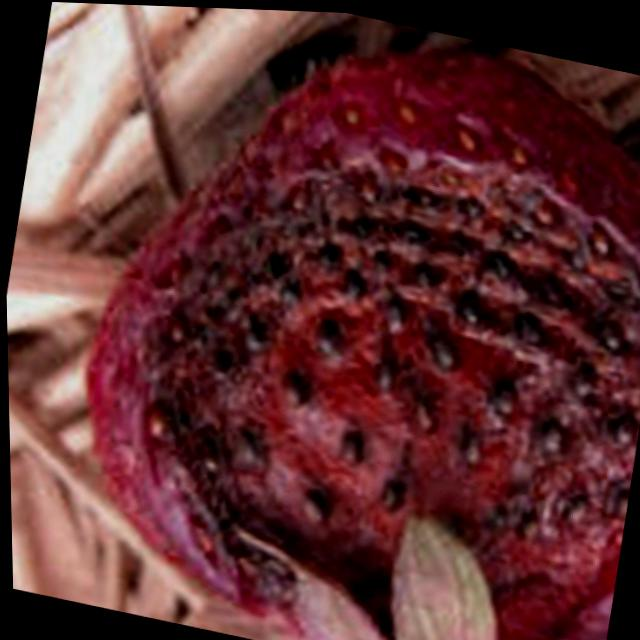Anthracnose Fruit Rot: (123, 139, 640, 640)
